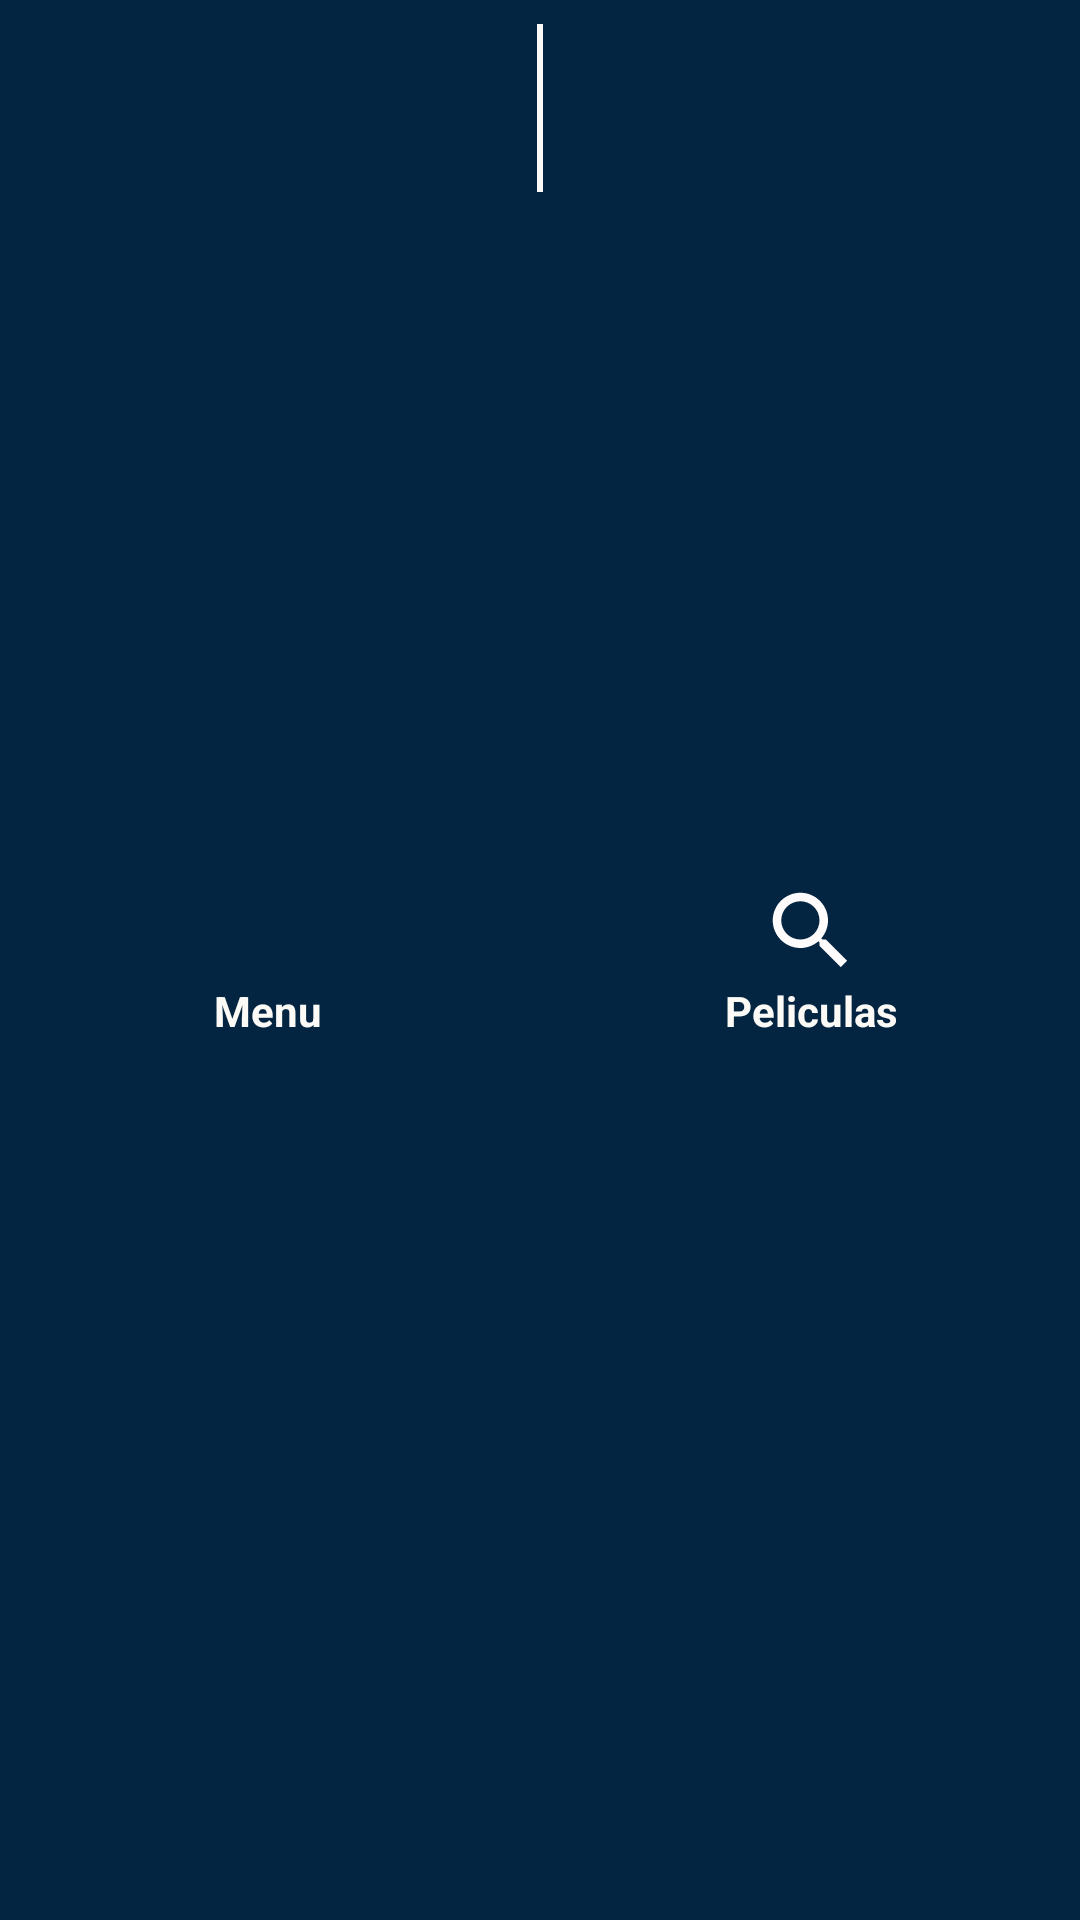

Icons on this 1080w x 1920h Android screen, each with the point to tap as (x=x, y=y):
search: (x=809, y=929)
